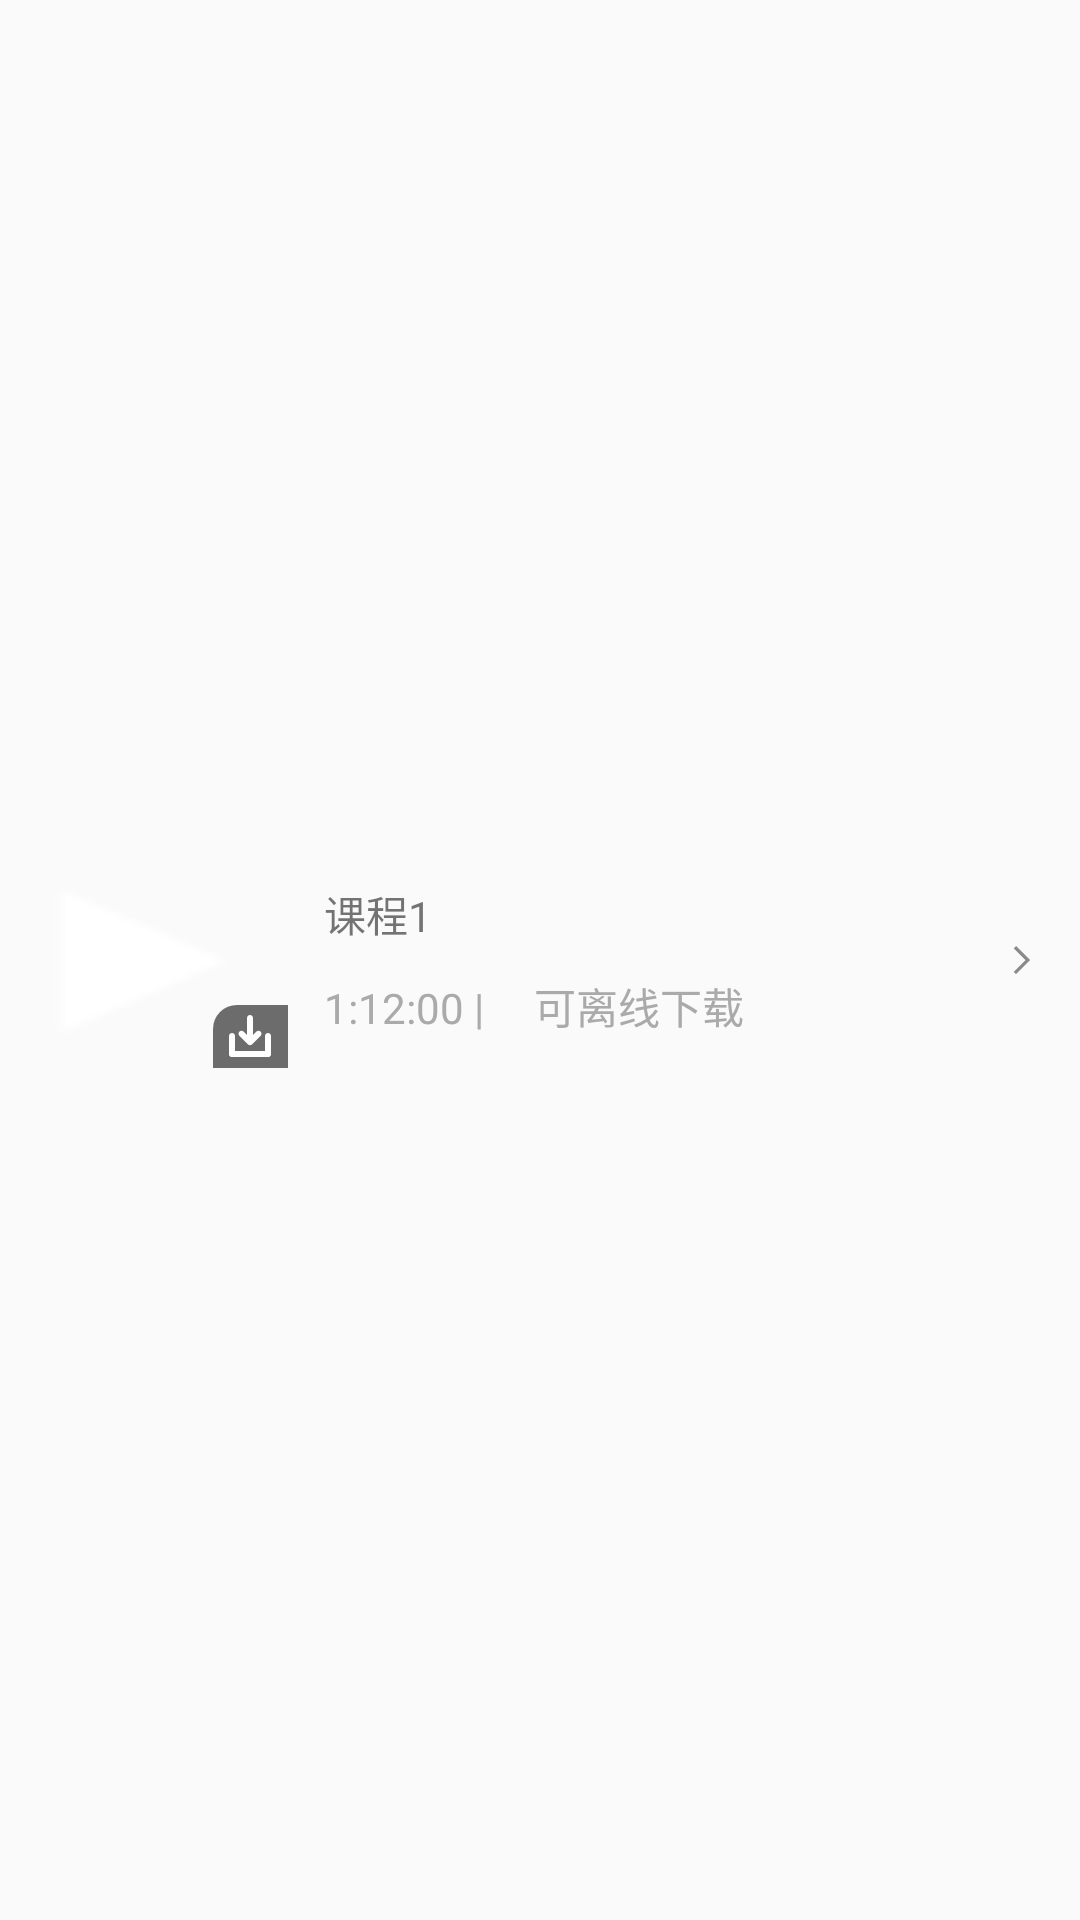

Icon bounding boxes for this 1080×1920 phone screenshot, format rect(x1, y1, x2, y2):
to right: rect(1014, 946, 1030, 974)
